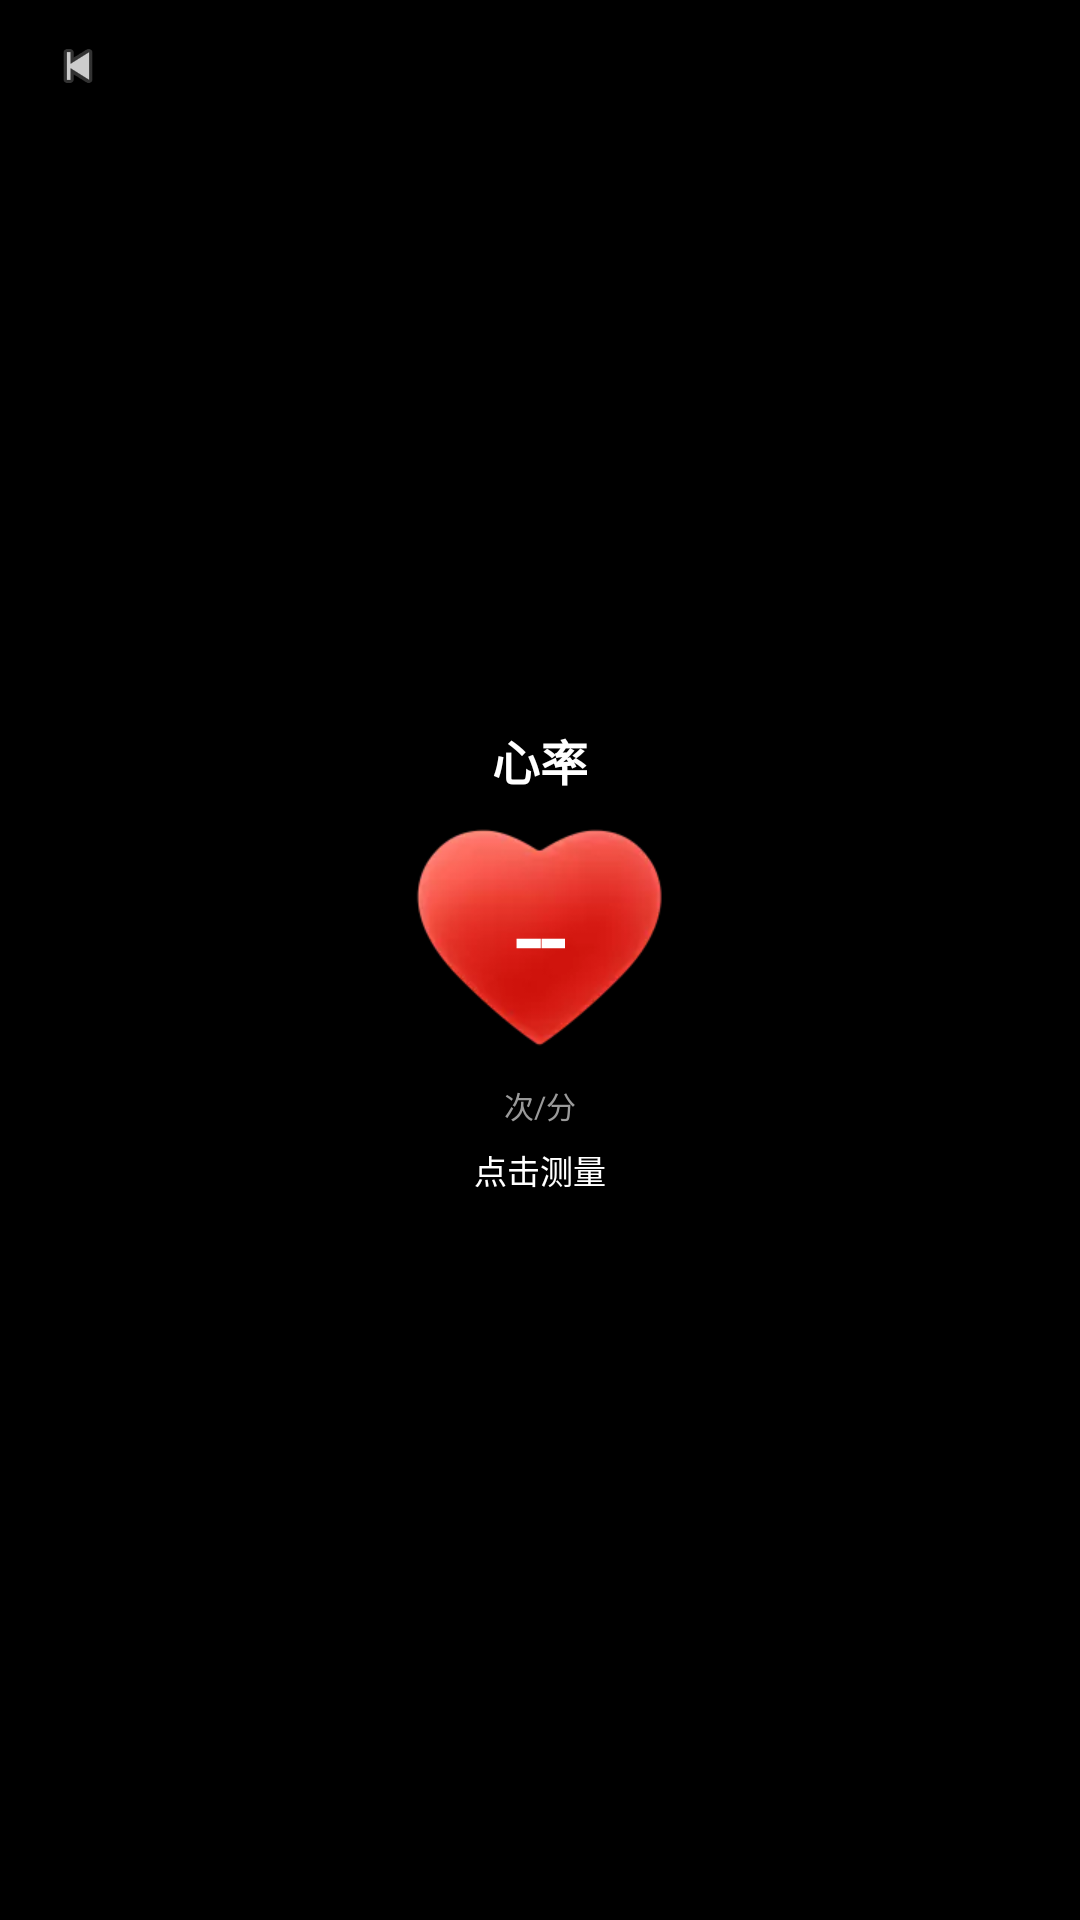

Point at icon controls on the screen. Image size 1080px x 1920px, points as [x,y].
heart: [539,937]
previous: [78,66]
